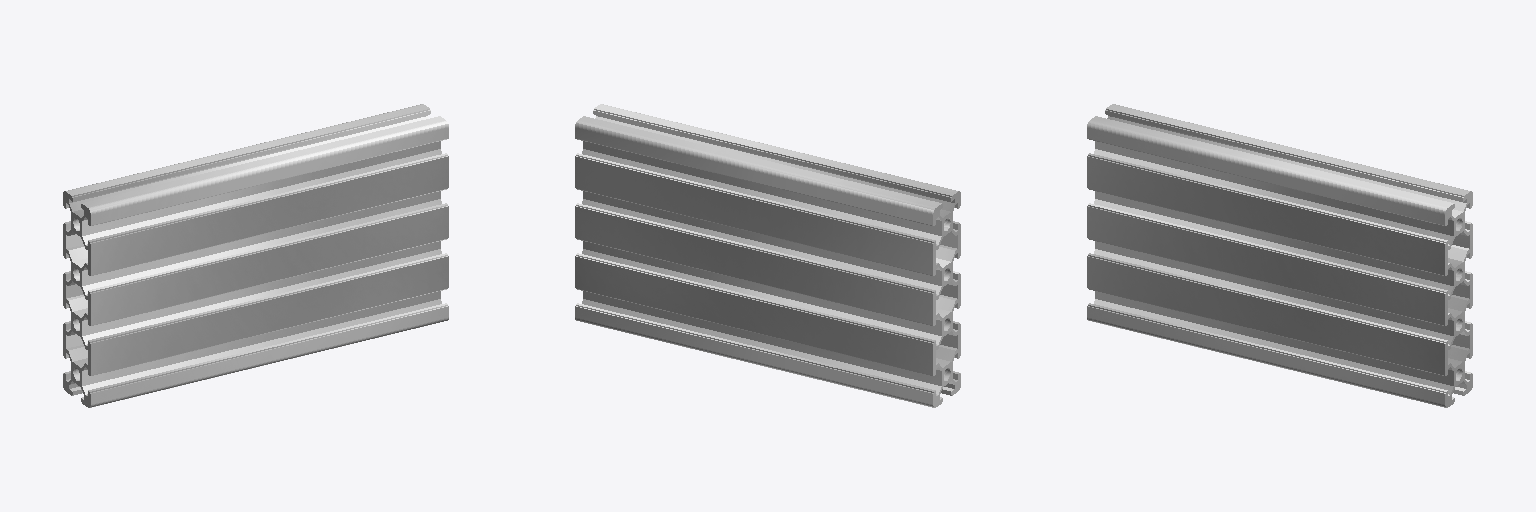
The picture shows the model from 3 angles: view 1: azimuth 30°, elevation 25°; view 2: azimuth 150°, elevation 25°; view 3: azimuth 330°, elevation 25°; orthographic projection.
Visible parts, largest first — view 1: MeshBody1.001; view 2: MeshBody1.001; view 3: MeshBody1.001.
Part boxes in pixels (x1,y1,x2,y2): MeshBody1.001: (63, 104, 448, 407); MeshBody1.001: (575, 104, 960, 407); MeshBody1.001: (1087, 104, 1472, 407).
Bounding box in the file's own units: 150 × 80 × 20.
Materials: 1 (1 with a texture image).